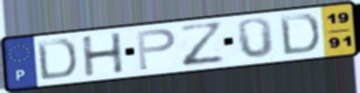0: (236, 16, 276, 61)
D: (34, 38, 79, 82), (277, 13, 322, 57)
H: (79, 31, 126, 79)
P: (134, 27, 178, 72)
Z: (176, 20, 228, 69)
